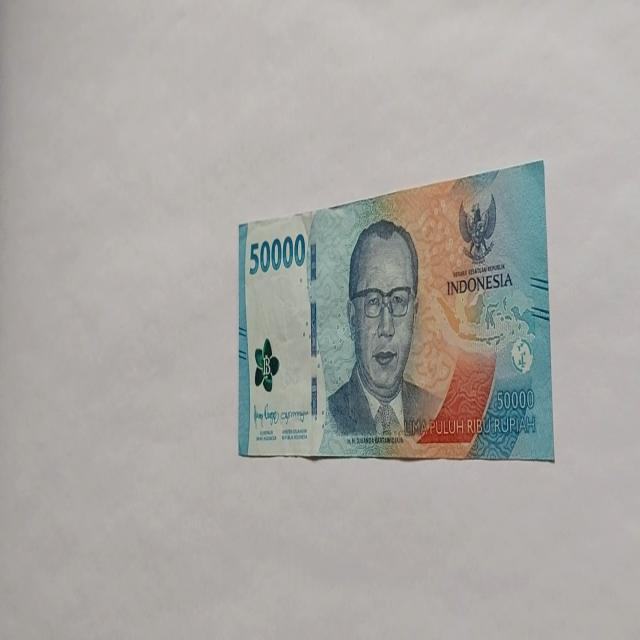lima puluh ribu rupiah: (236, 159, 554, 463), (320, 216, 444, 452)
